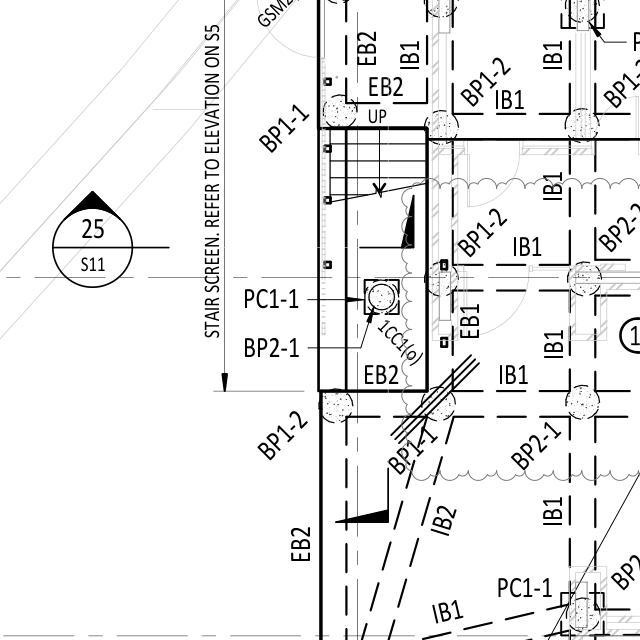BP1-1: (246, 91, 307, 154), (377, 425, 438, 471)
BP1-2: (249, 406, 311, 458), (453, 199, 507, 258), (449, 49, 501, 102), (598, 64, 640, 104)
BP2-1: (510, 420, 563, 465), (238, 330, 298, 365)
BP2-2: (590, 193, 640, 254)
EB2: (287, 515, 324, 567)
PC1-1: (479, 567, 559, 602), (233, 278, 303, 312)
